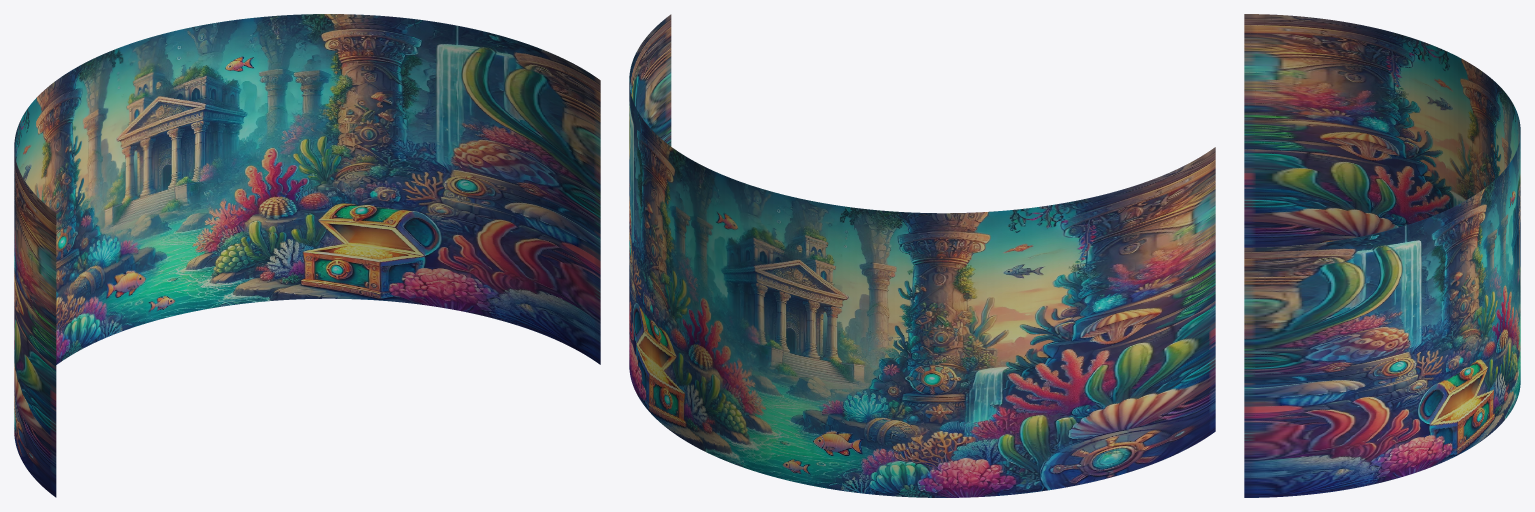
File: Background_fbx_common_textured.fbx
The picture shows the model from 3 angles, left to right: view 1: azimuth 30°, elevation 25°; view 2: azimuth 150°, elevation 25°; view 3: azimuth 270°, elevation 25°; orthographic projection. The views are drawn at different scales.
Visible parts, largest first — view 1: Obj; view 2: Obj; view 3: Obj.
Boxes of the visible parts, left/top/right/bottom form: Obj: left=14, top=14, right=600, bottom=497; Obj: left=629, top=14, right=1215, bottom=497; Obj: left=1244, top=14, right=1520, bottom=497.
Bounding box in the file's own units: 200 × 100 × 100.
Materials: 1 (1 with a texture image).
